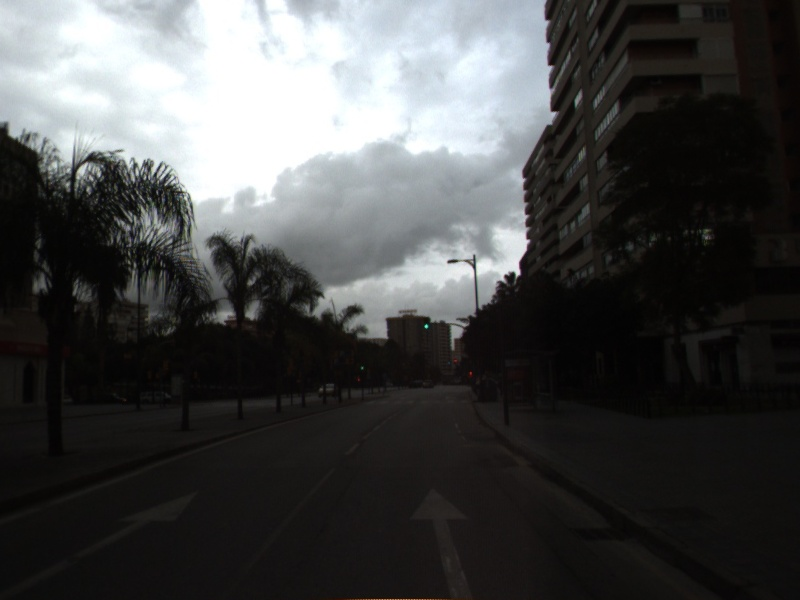STRAIGHT: (1, 487, 202, 600), (406, 486, 479, 600)
